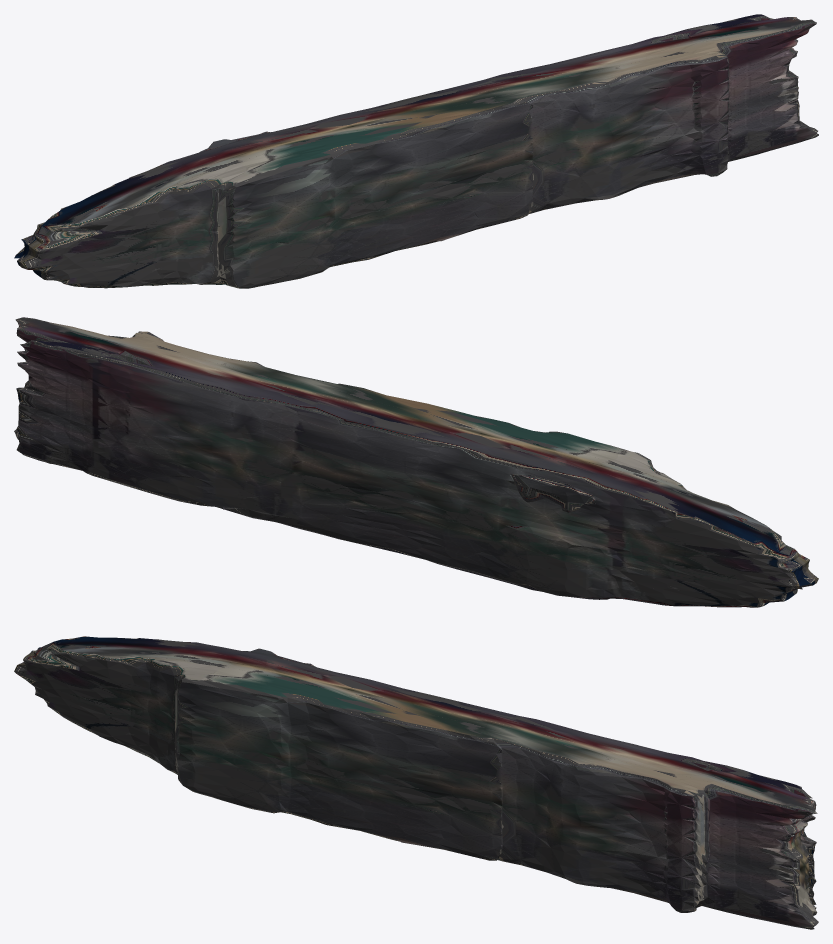
File: vessel_9388819.glb
The picture shows the model from 3 angles, top to bottom: view 1: azimuth 30°, elevation 25°; view 2: azimuth 150°, elevation 25°; view 3: azimuth 330°, elevation 25°; orthographic projection. The views are drawn at different scales.
Visible parts, largest first — view 1: geometry_0; view 2: geometry_0; view 3: geometry_0.
Boxes of the visible parts, box(x1,y1,x2,y2) form: geometry_0: box(14, 14, 818, 288); geometry_0: box(14, 317, 818, 607); geometry_0: box(14, 636, 818, 929).
Size of the model in its own units: 1.9 by 0.2807 by 0.2132.
Materials: 1 (1 with a texture image).
